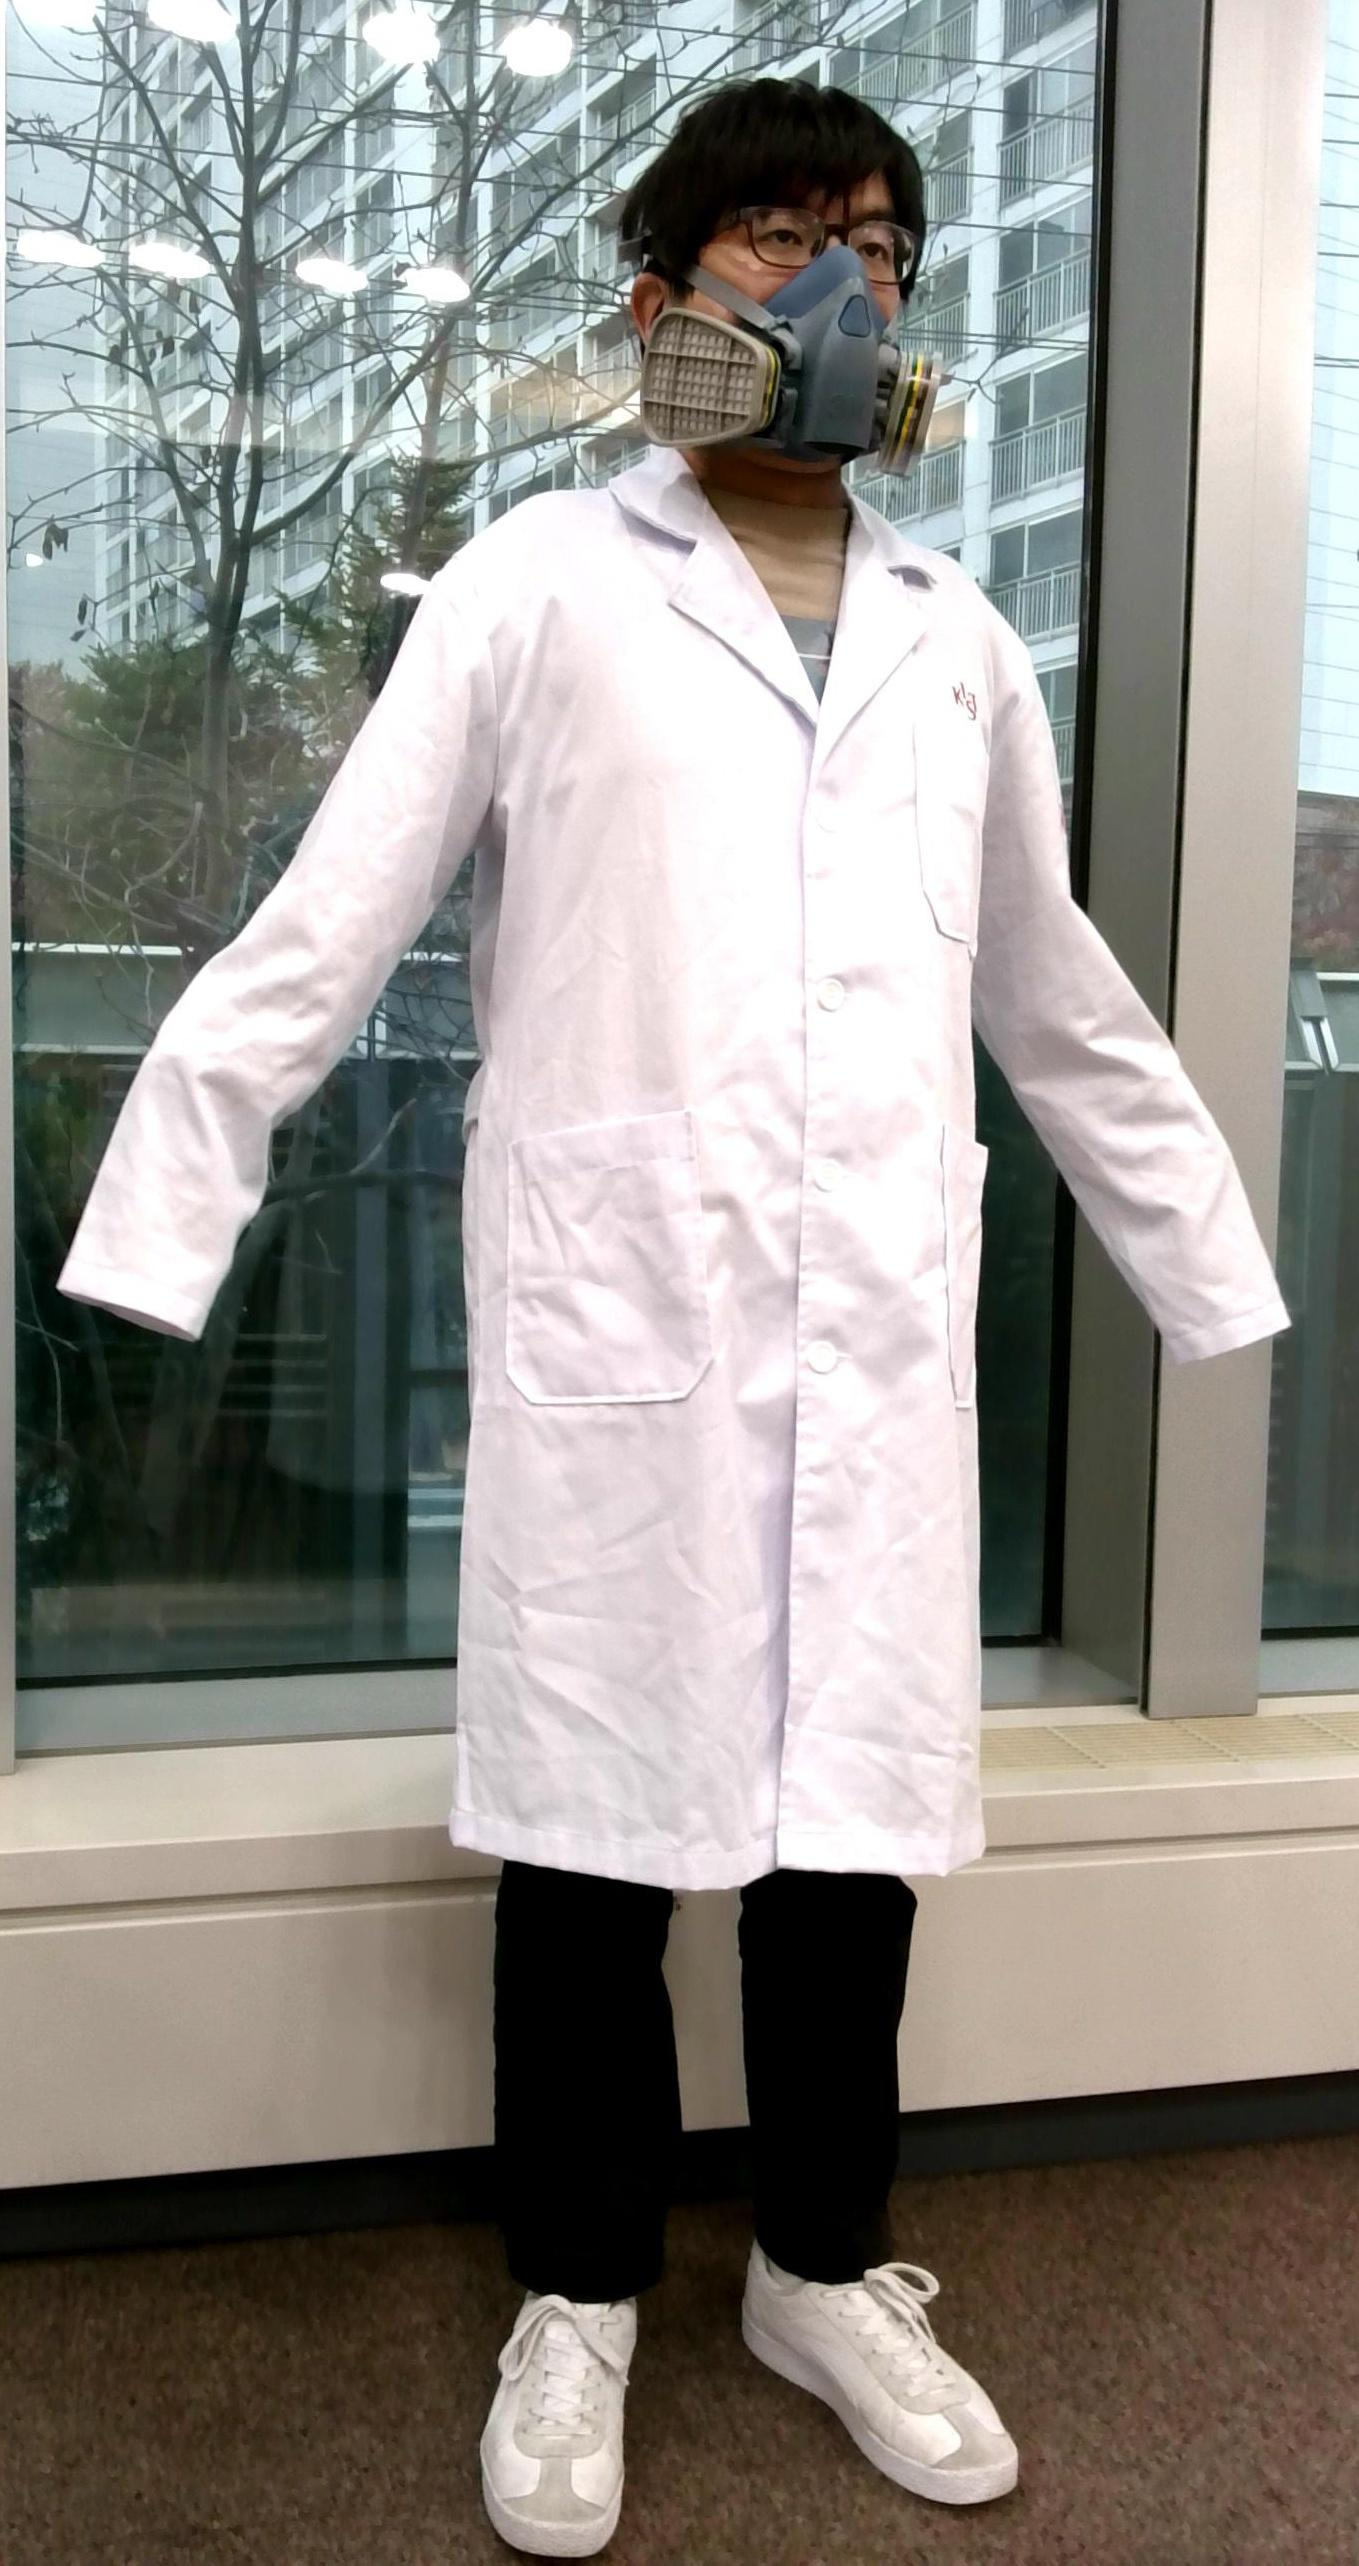lab_coat: (249, 596, 1076, 1801)
